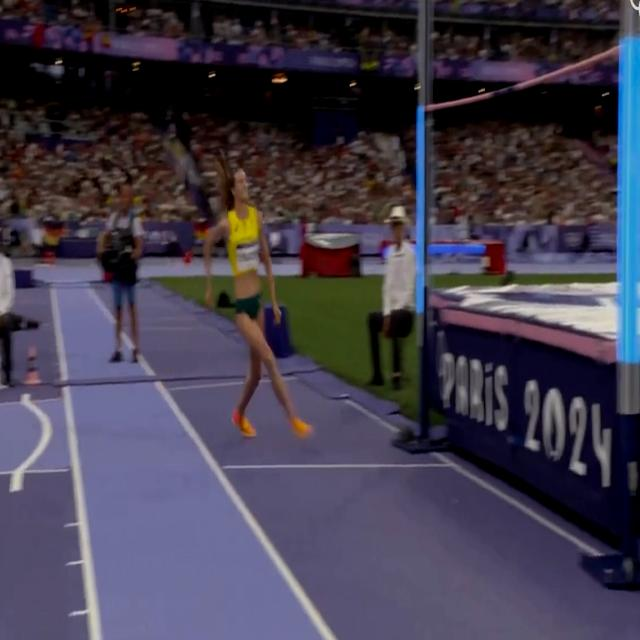run: (204, 168, 309, 437)
